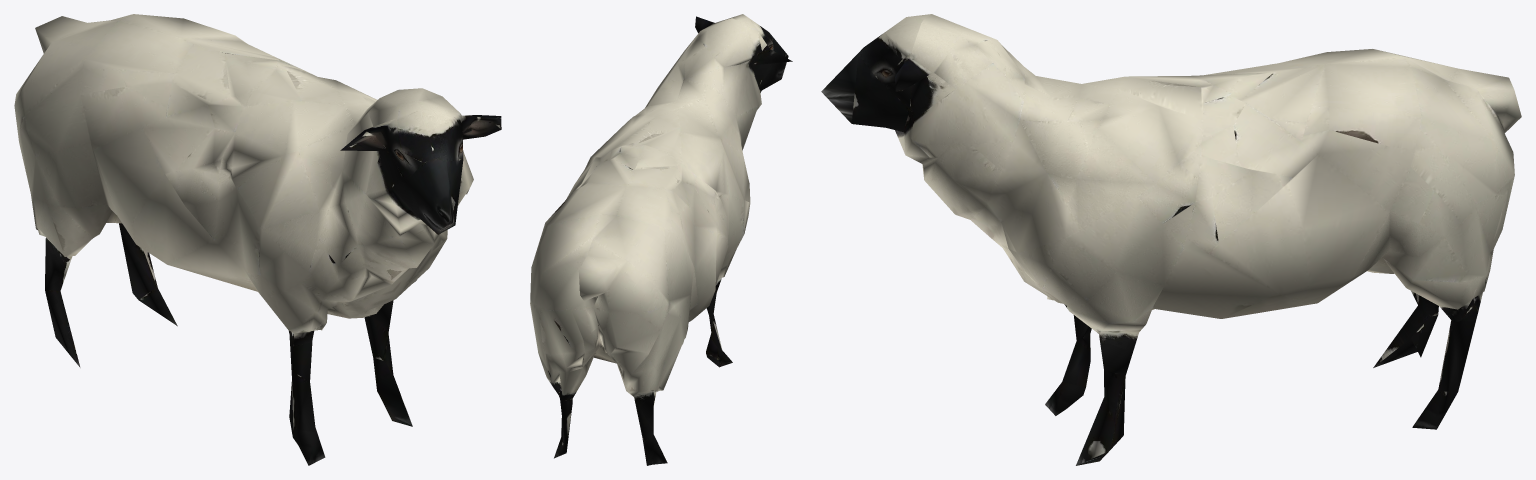
The model's file is schaf.glb.
3 views of the same model, side by side, from view 1: azimuth 30°, elevation 25°; view 2: azimuth 150°, elevation 25°; view 3: azimuth 270°, elevation 25° (orthographic). The views are drawn at different scales.
Bounding box in the file's own units: 0.8177 × 1.24 × 1.9.
1 material, 1 textured.
